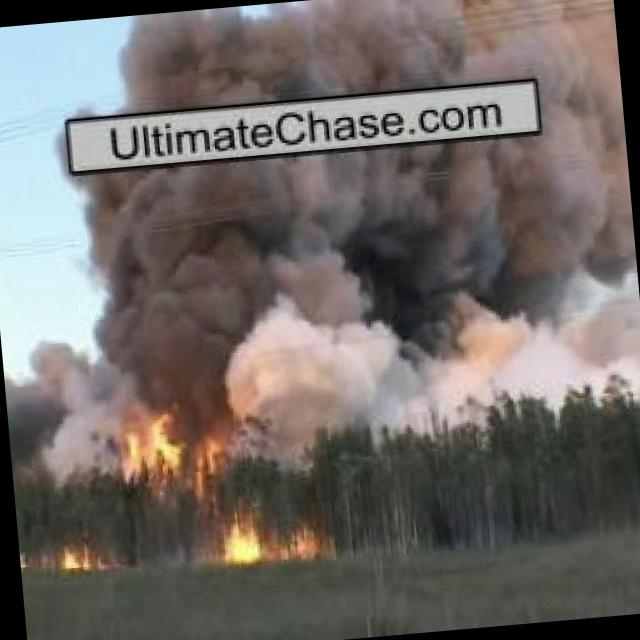Fire: (113, 399, 214, 482), (49, 534, 108, 574), (222, 514, 263, 565), (287, 526, 318, 562)
Smoke: (0, 128, 640, 472), (93, 0, 617, 107)
